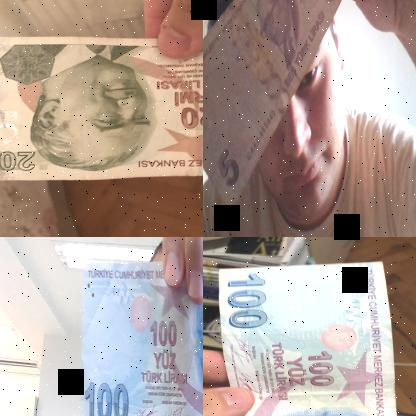5 TL: (0, 24, 202, 180)
